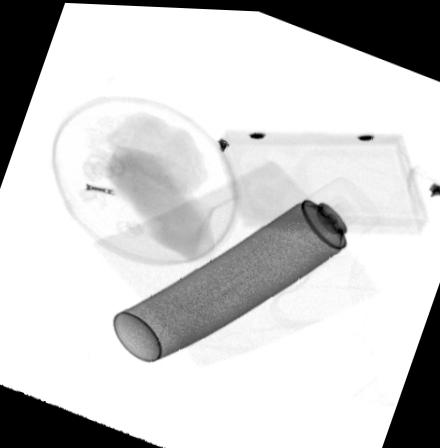Sprayer: (110, 172, 382, 363)
